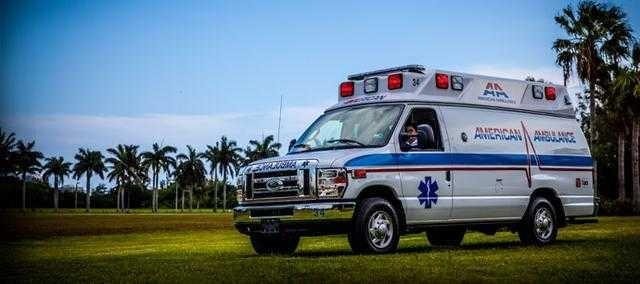car: (232, 63, 599, 255)
